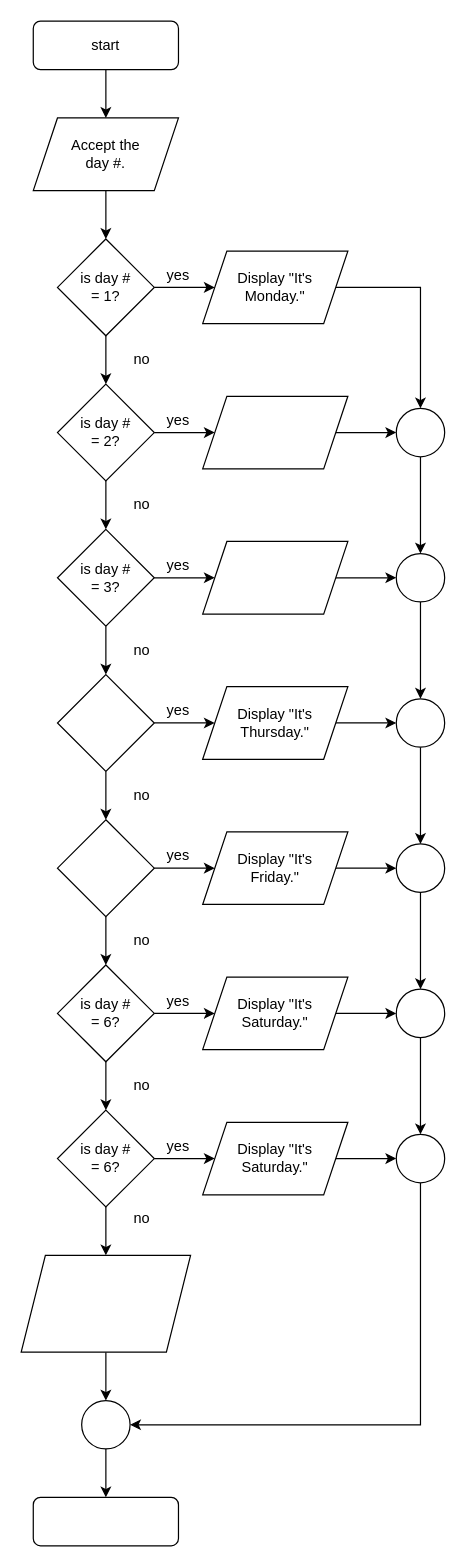
The diagram is 466 pixels wide and 1567 high, and some of its shapes have lost their labels. Here are the shapes that lost their labels. From the top down, the centre of each, then its label:
point (274, 432): Display "It's Tuesday."
point (274, 577): Display "It's Wednesday."
point (105, 722): is day # = 4?
point (105, 868): is day # = 5?
point (105, 1303): Display "The day number must be between 1 and 7. You entered " day # "."
point (105, 1521): stop
